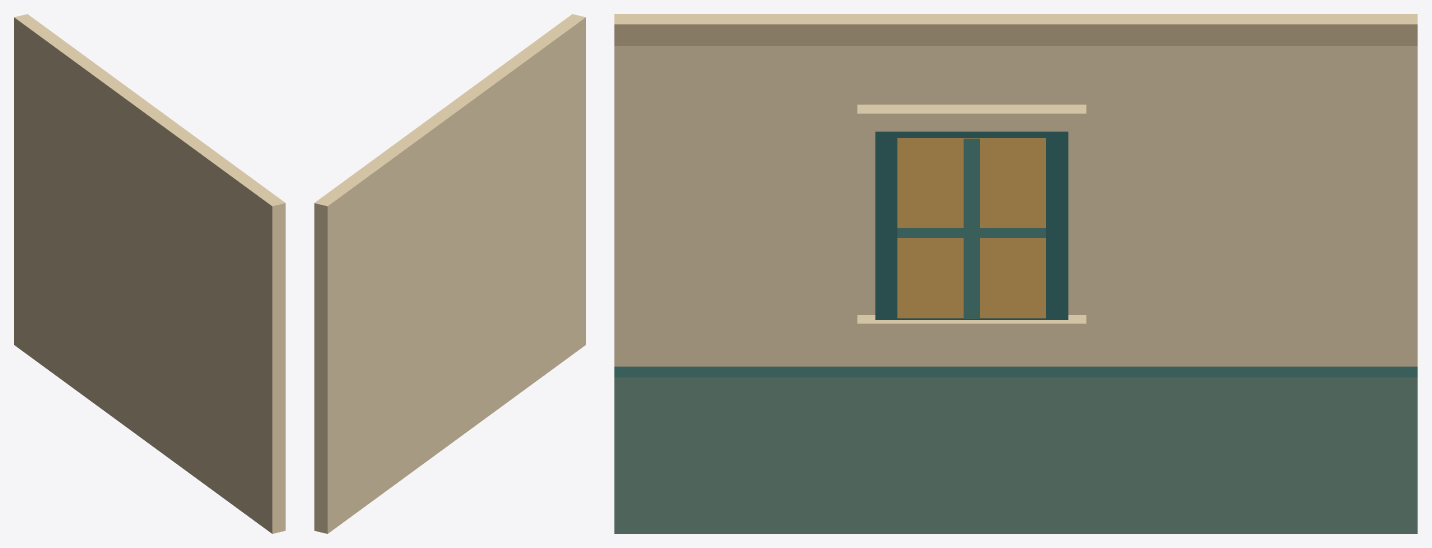
File: west.glb
3 views of the same model, side by side, from view 1: azimuth 30°, elevation 25°; view 2: azimuth 150°, elevation 25°; view 3: azimuth 270°, elevation 25° (orthographic). The views are drawn at different scales.
Visible parts, largest first — view 1: west; view 2: west; view 3: west.
Boxes of the visible parts, x1,y1,x2,y2 form: west: (14,14,285,533); west: (314,14,585,533); west: (614,14,1417,533).
Bounding box in the file's own units: 0.25 × 2.8 × 4.
Materials: 1 (1 with a texture image).
